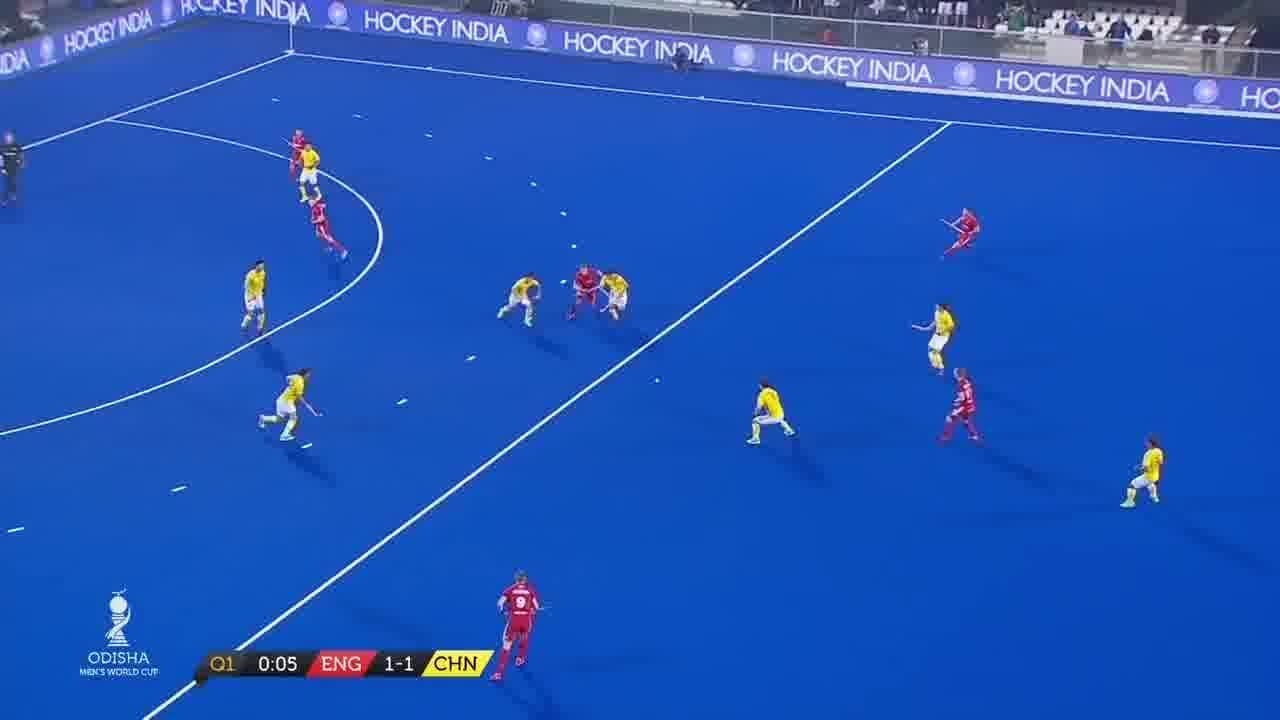ball: (653, 376, 663, 384)
